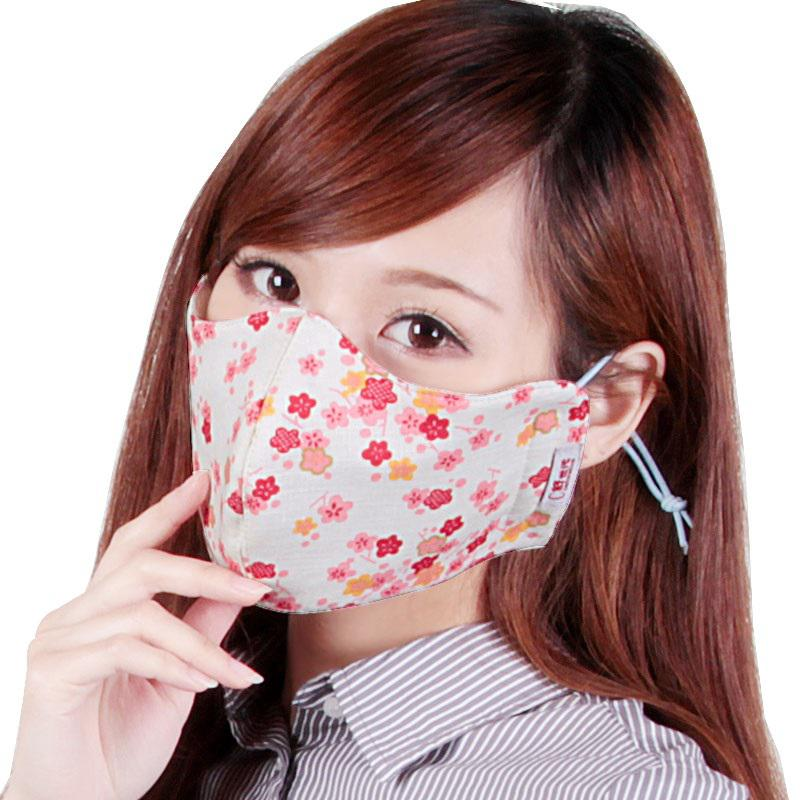OK: (176, 200, 571, 595)
